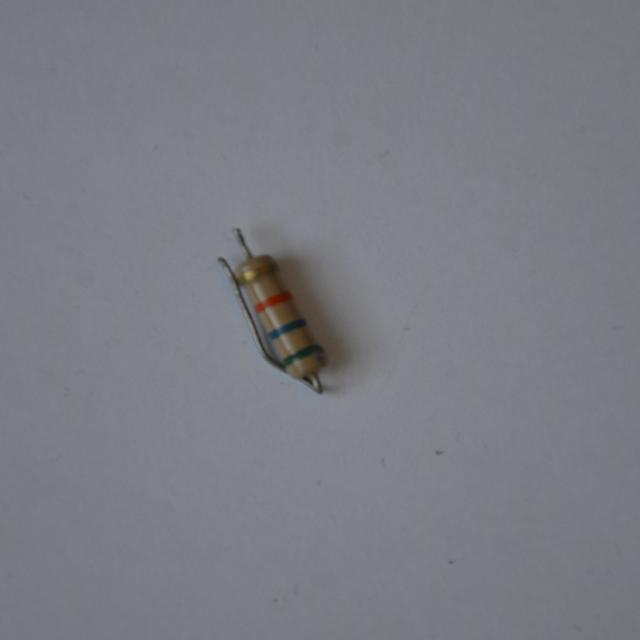blue: (269, 318, 306, 340)
gold: (238, 261, 273, 283)
green: (280, 344, 321, 368)
orange: (256, 292, 290, 311)
resistor: (225, 244, 343, 386)
